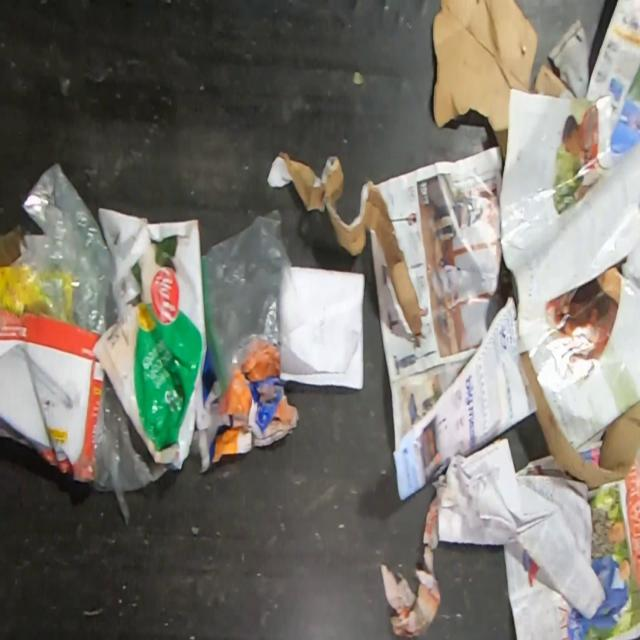cardboard: (266, 149, 423, 352), (431, 0, 578, 164), (0, 308, 105, 482), (520, 350, 640, 492), (0, 223, 24, 299)
soft_plastic: (92, 207, 207, 470), (0, 160, 118, 335), (200, 207, 308, 398), (88, 372, 171, 526)
